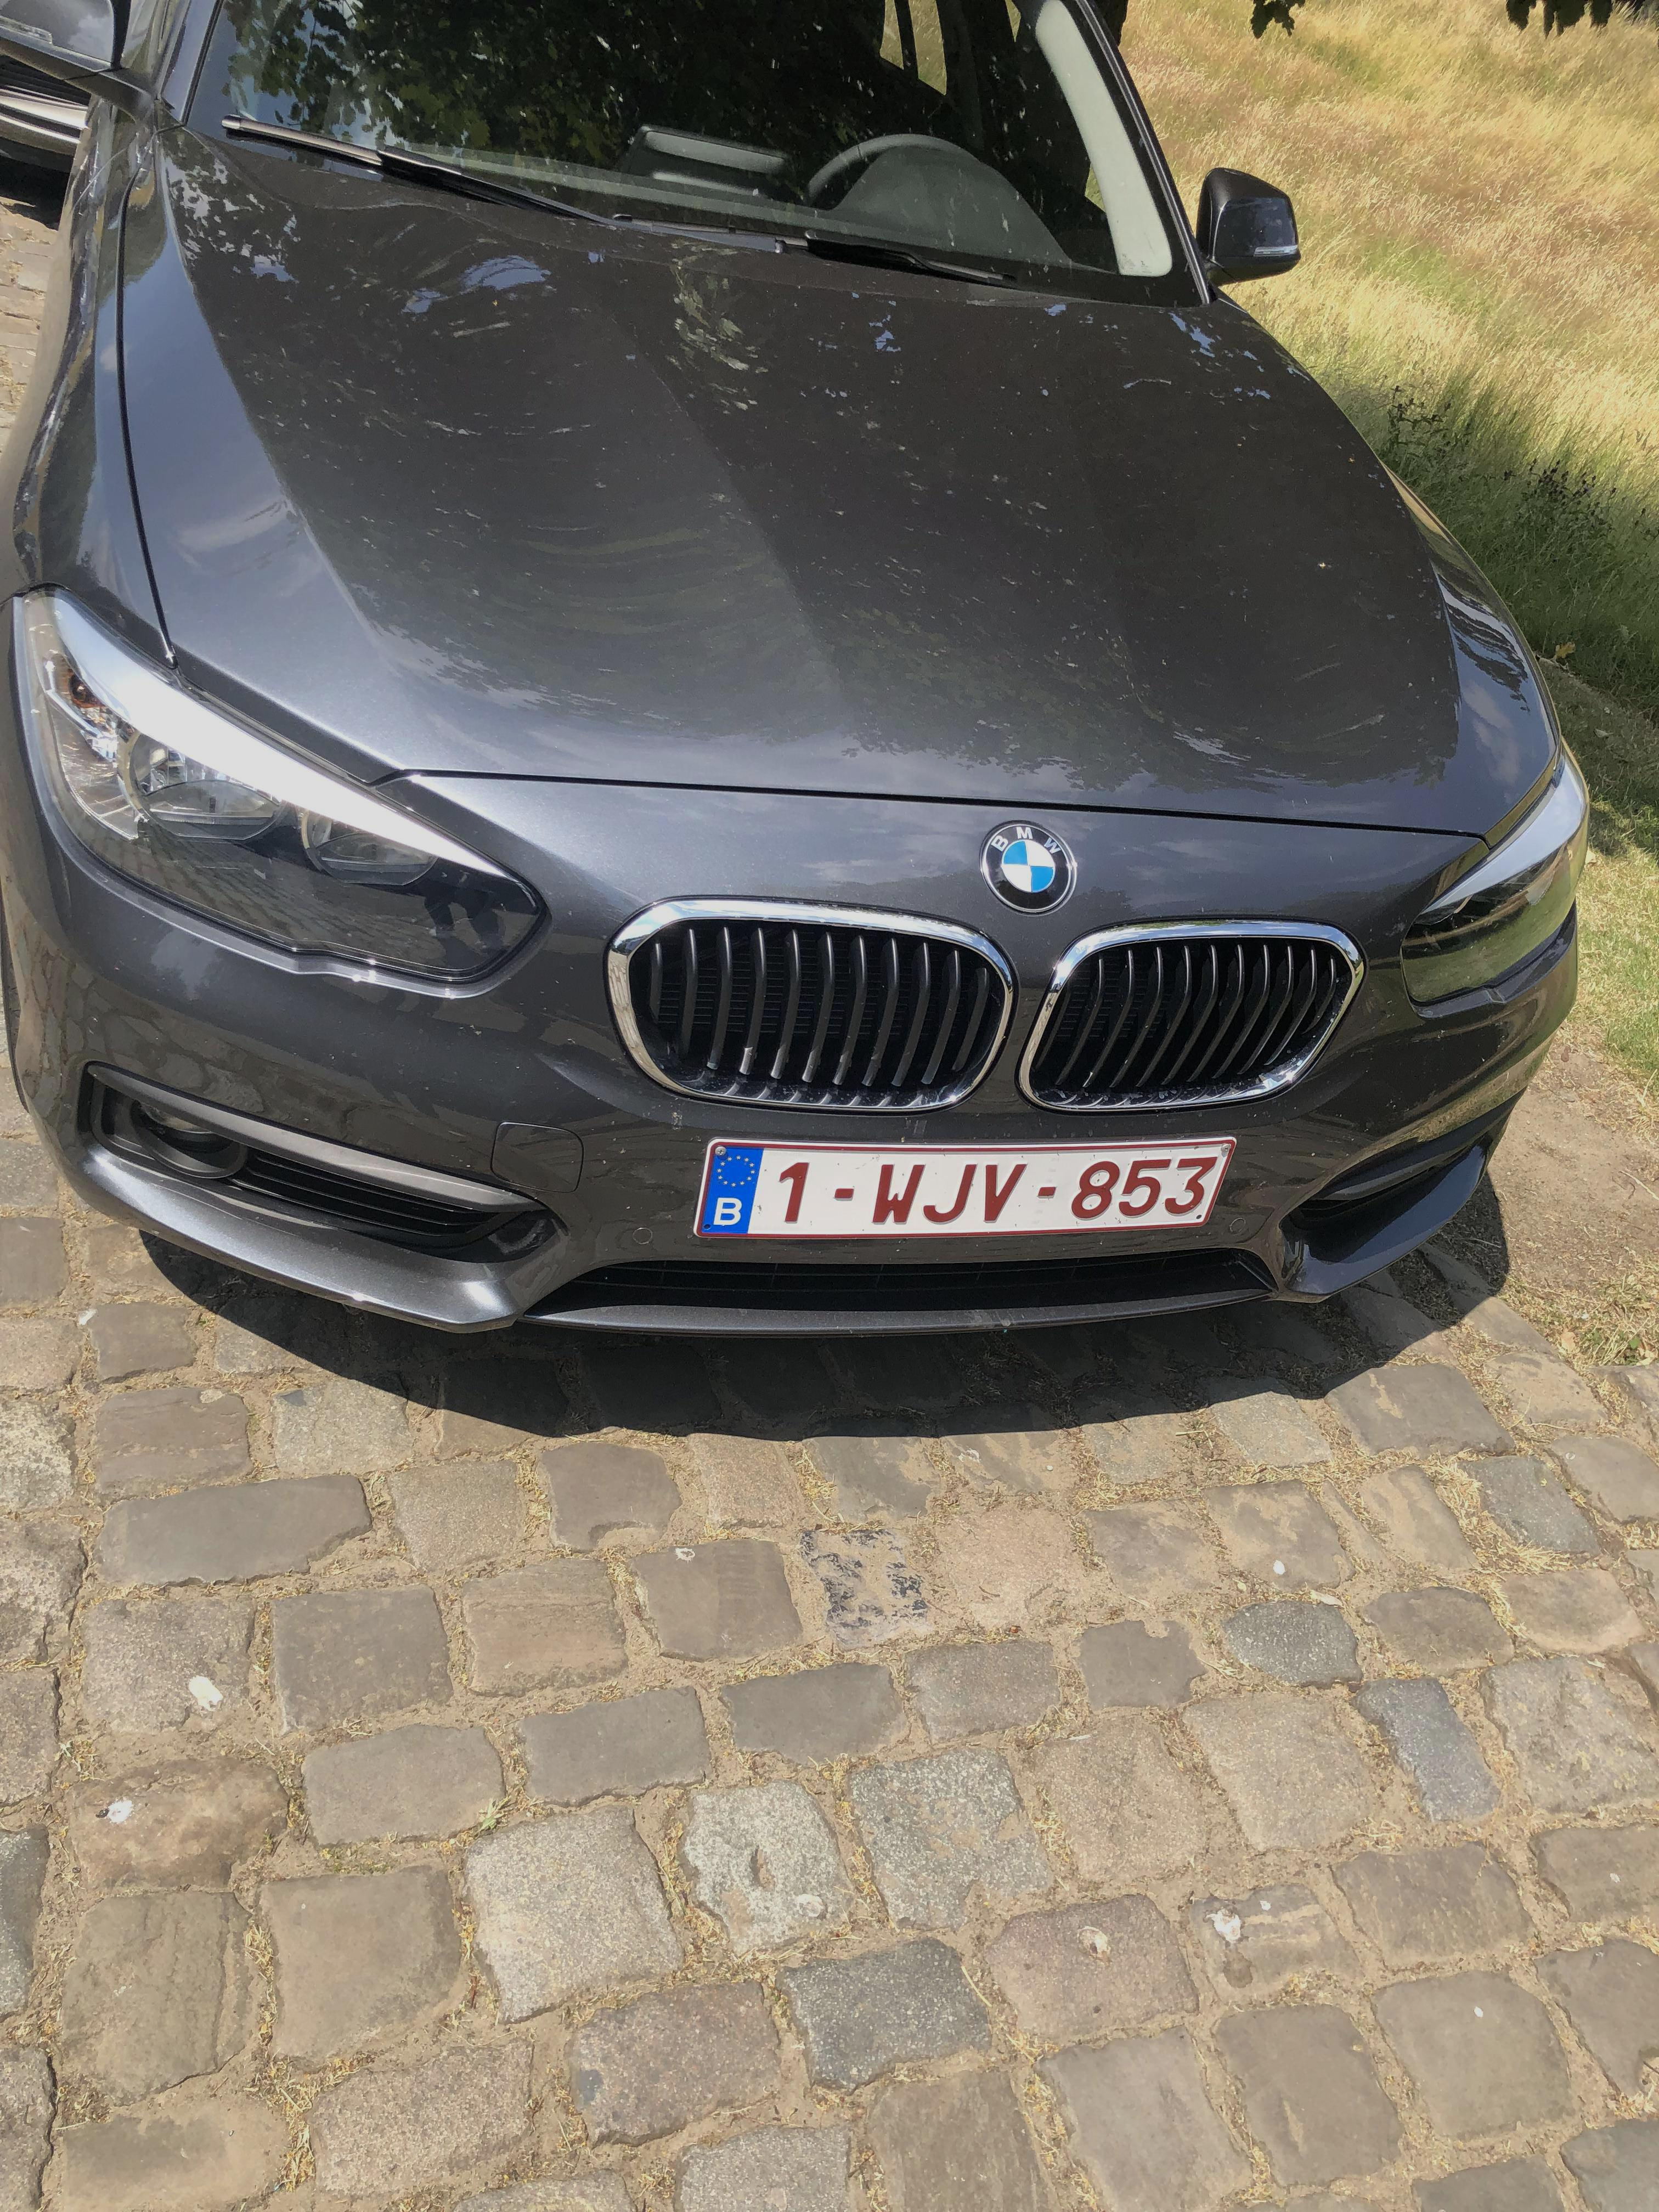plate: (676, 1116, 1258, 1267)
